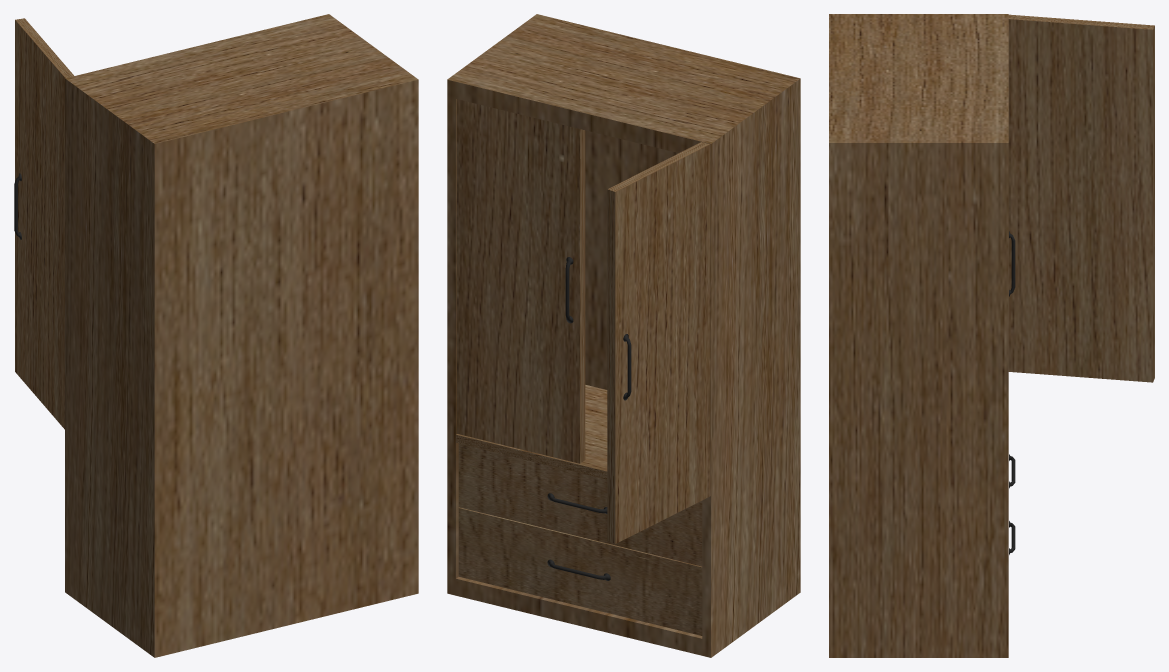
File: Closet.fbx
The picture shows the model from 3 angles, left to right: view 1: azimuth 30°, elevation 25°; view 2: azimuth 150°, elevation 25°; view 3: azimuth 270°, elevation 25°; orthographic projection.
Parts seen in each view (by area): view 1: 큐브; view 2: 큐브; view 3: 큐브.
Part boxes in pixels (x1,y1,x2,y2): 큐브: [14, 14, 418, 657]; 큐브: [447, 14, 800, 657]; 큐브: [829, 14, 1154, 657].
Bounding box in the file's own units: 11.95 × 22.24 × 12.75.
